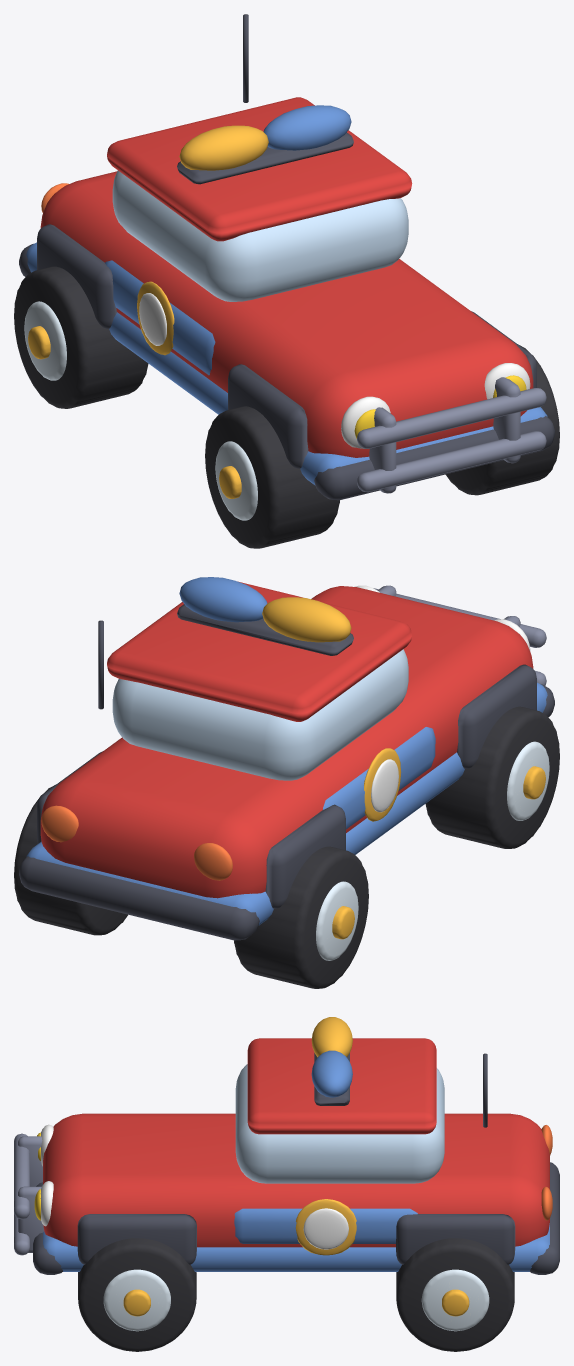
File: toy-interceptor.glb
The picture shows the model from 3 angles, top to bottom: view 1: azimuth 30°, elevation 25°; view 2: azimuth 150°, elevation 25°; view 3: azimuth 270°, elevation 25°; orthographic projection. The views are drawn at different scales.
Visible parts, largest first — view 1: body, wheel-back-right, wheel-front-right, grill, wheel-front-left; view 2: body, wheel-front-right, wheel-back-right, wheel-back-left, grill; view 3: body, wheel-front-left, wheel-back-left, grill.
Part boxes in pixels (x1,y1,x2,y2): body: (19,14,554,500); wheel-back-right: (14,266,148,408); wheel-front-right: (205,406,339,548); grill: (357,377,546,493); wheel-front-left: (445,344,559,495); body: (19,577,554,940); wheel-front-right: (425,706,559,848); wheel-back-right: (234,846,368,988); wheel-back-left: (14,785,127,935); grill: (373,585,546,685); body: (33,1017,559,1274); wheel-front-left: (78,1238,196,1351); wheel-back-left: (396,1238,514,1351); grill: (14,1133,44,1255).
Size of the model in its own units: 1.52 by 1.5 by 2.75.
1 material, 1 textured.
